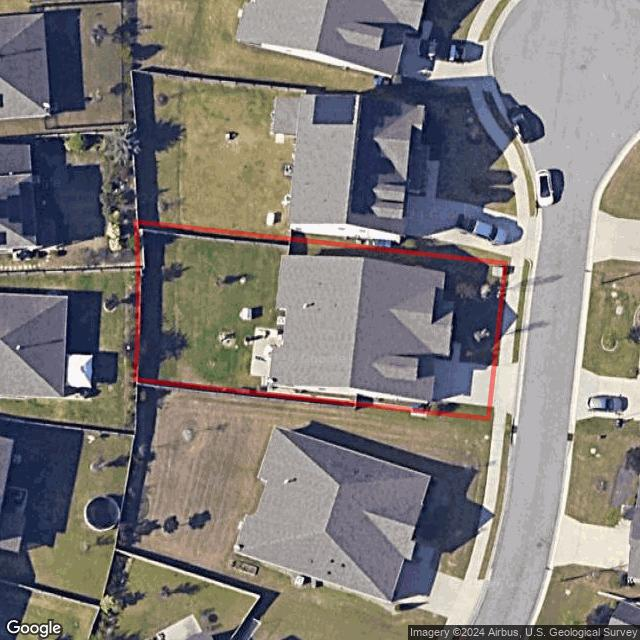Driveway: (434, 358, 496, 408), (488, 407, 494, 421)
Extra-Driveway: (491, 363, 518, 416)
Extra-Lawn: (512, 263, 530, 363), (496, 261, 510, 367), (505, 413, 512, 425)
Extra-Sidewalk: (498, 262, 524, 367), (493, 408, 506, 425)
House: (270, 257, 455, 402)
Lawn: (135, 221, 507, 420)
Other: (249, 328, 274, 387)
Sidewalk: (450, 341, 460, 363)
